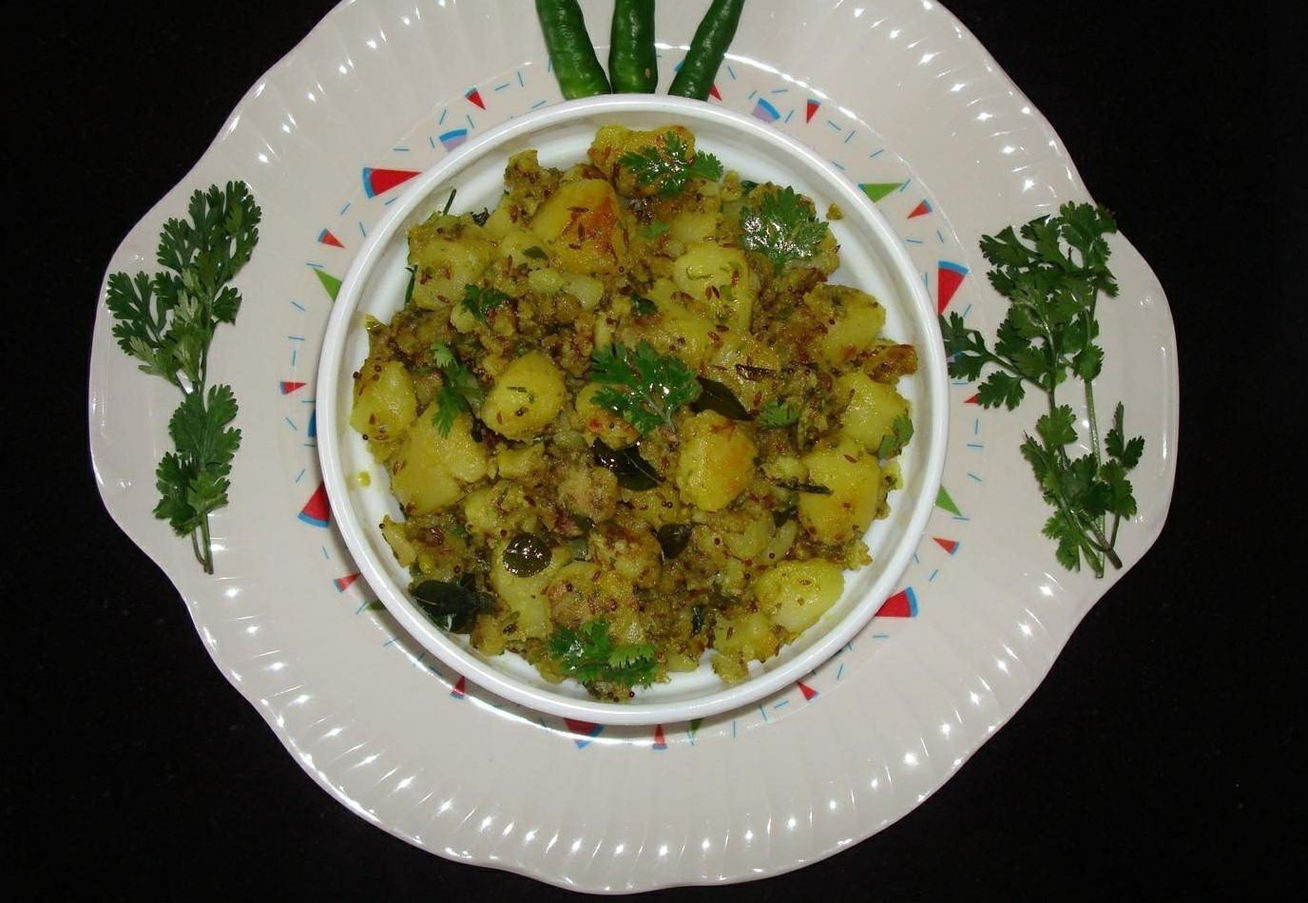AlooMasala: (347, 120, 917, 699)
